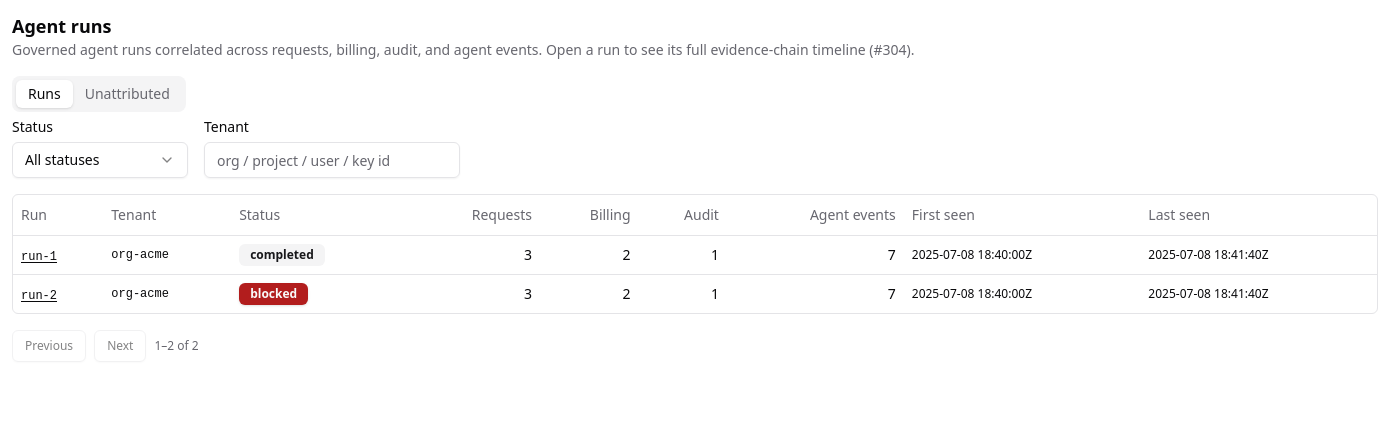
Scenario: AgentRunsPage › writes the status and tenant filters to the URL query state
The width and height of the screenshot is (1378, 428).
Expected: the link "run-1" is shown, [21, 250, 57, 264]
Click the dropdown. click: (100,160)
box: [12, 142, 188, 178]
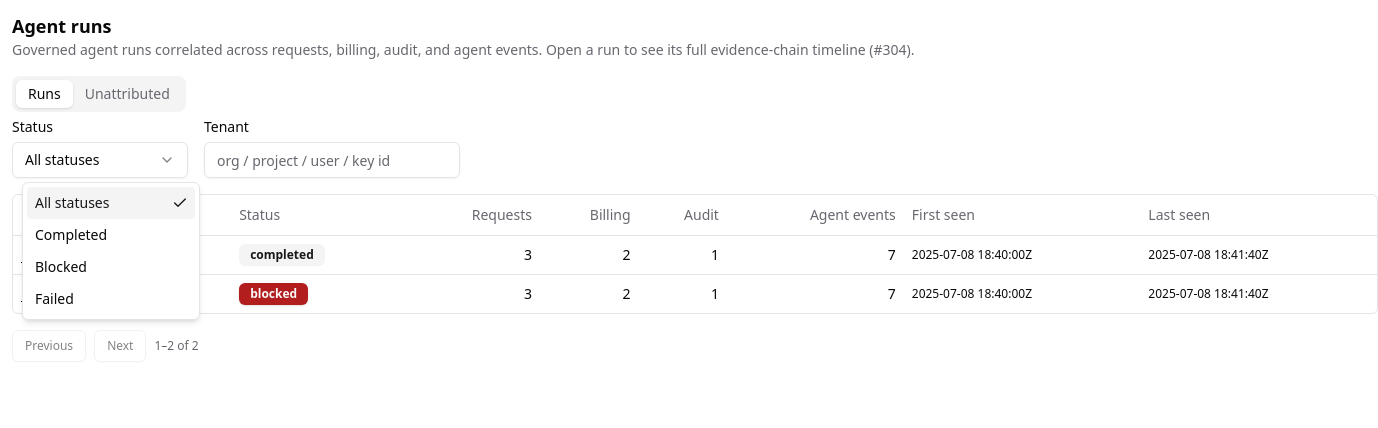
Click the option "Blocked". click: (61,266)
box: [35, 257, 87, 276]
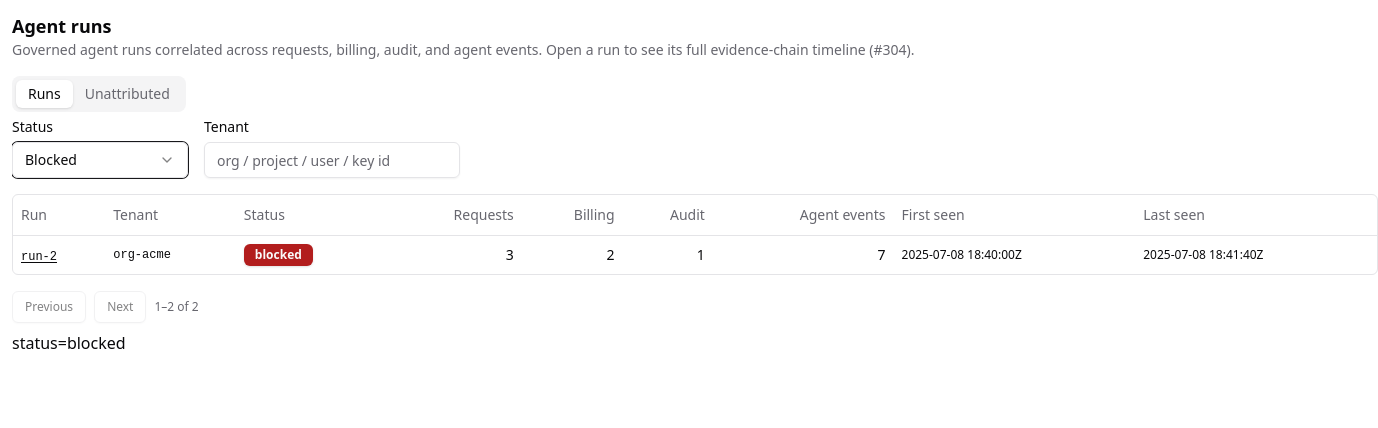
Now the text with test id "search" reads "status=blocked", box [12, 332, 126, 354]
// The free-text tenant correlation filter also persists to the URL.
Type "proj-beta" into the field labelled "Tenant". click: (332,160)
box: [204, 142, 460, 178]
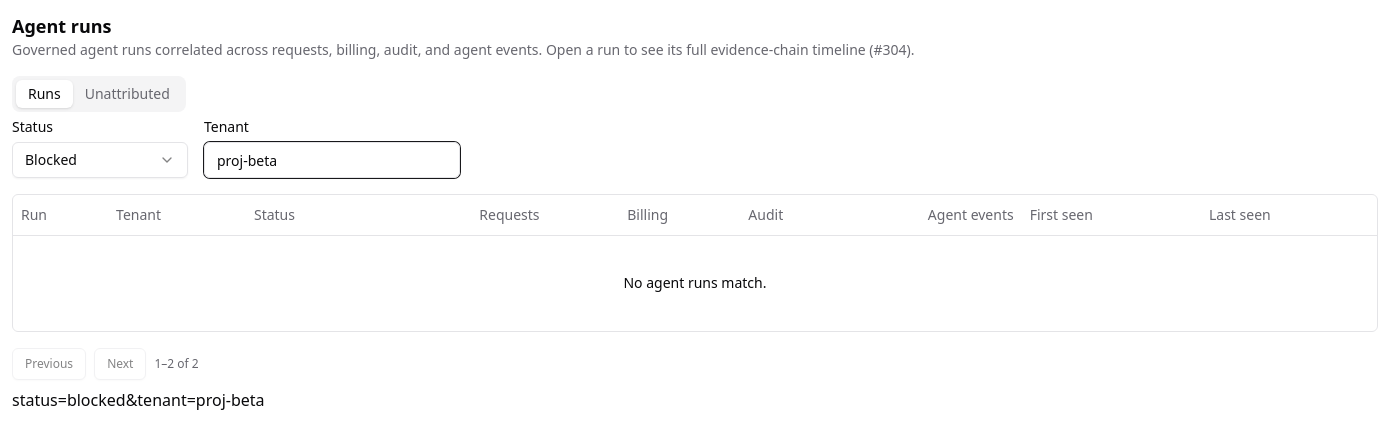
Now the text with test id "search" shows "tenant=proj-beta", box [12, 389, 264, 411]
// Returning to the default status prunes the param (clean canonical URL).
Click the dropdown. click: (100,160)
box: [12, 142, 188, 178]
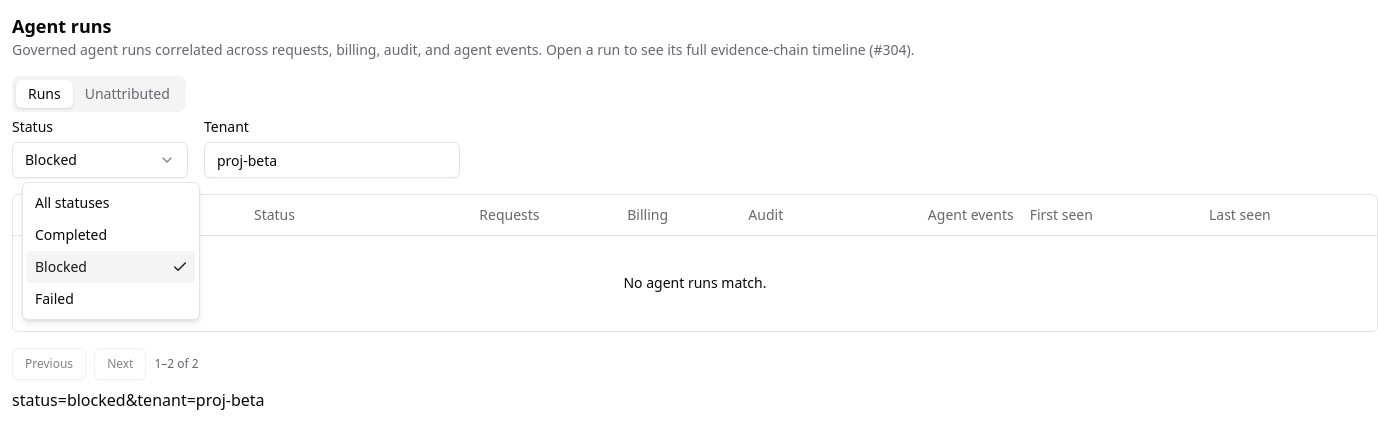
Click the option "All statuses". click: (72,202)
box: [35, 193, 110, 212]
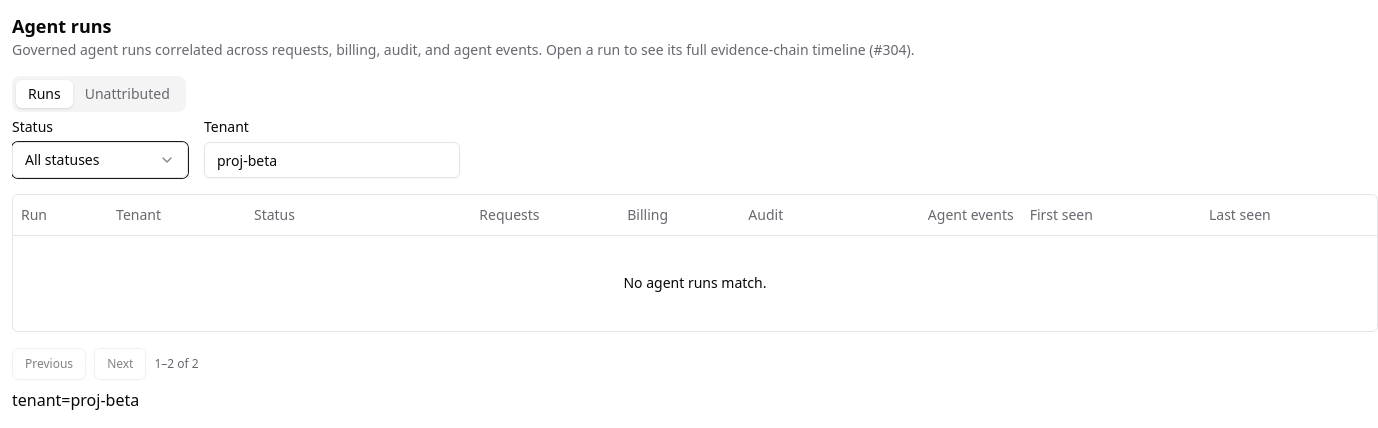
Now the text with test id "search" no longer shows "status=", box [12, 389, 139, 411]
